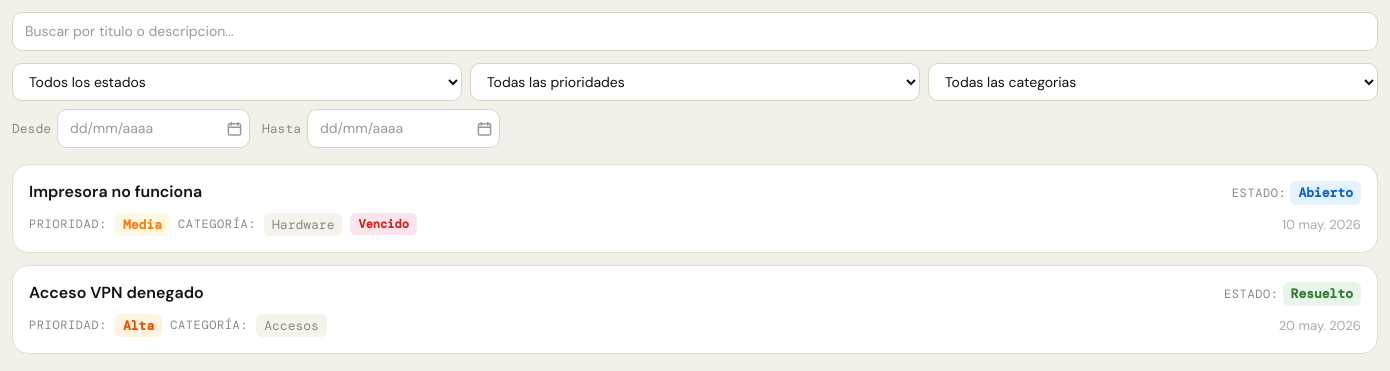
Test: TicketList — busqueda y filtros de fecha › muestra sin resultados si no hay coincidencias
Type "xyz123" into the field with placeholder "Buscar por titulo o descripcion..." at (695, 32), box x1=12 y1=12 x2=1378 y2=51
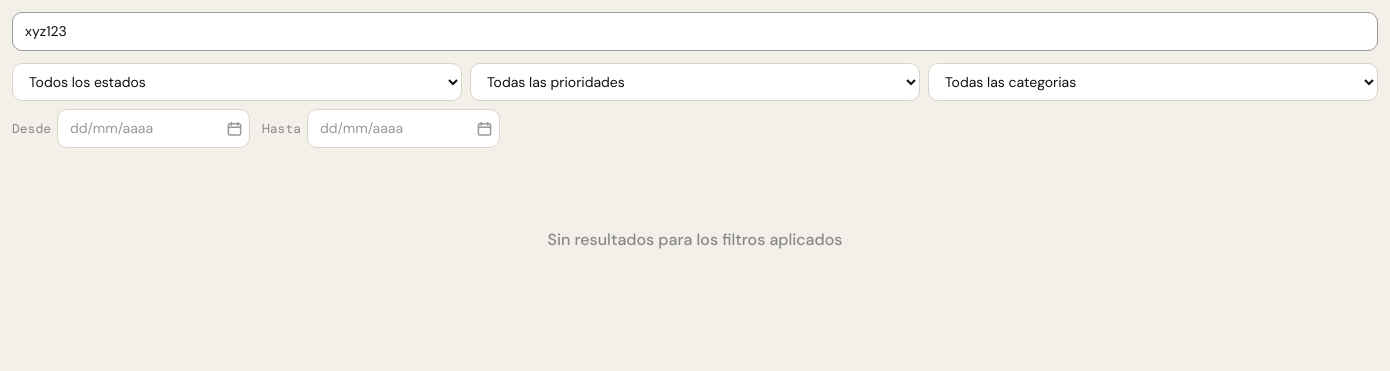
Expected: the text "Sin resultados para los filtros aplicados" is shown, x1=548 y1=229 x2=842 y2=250
